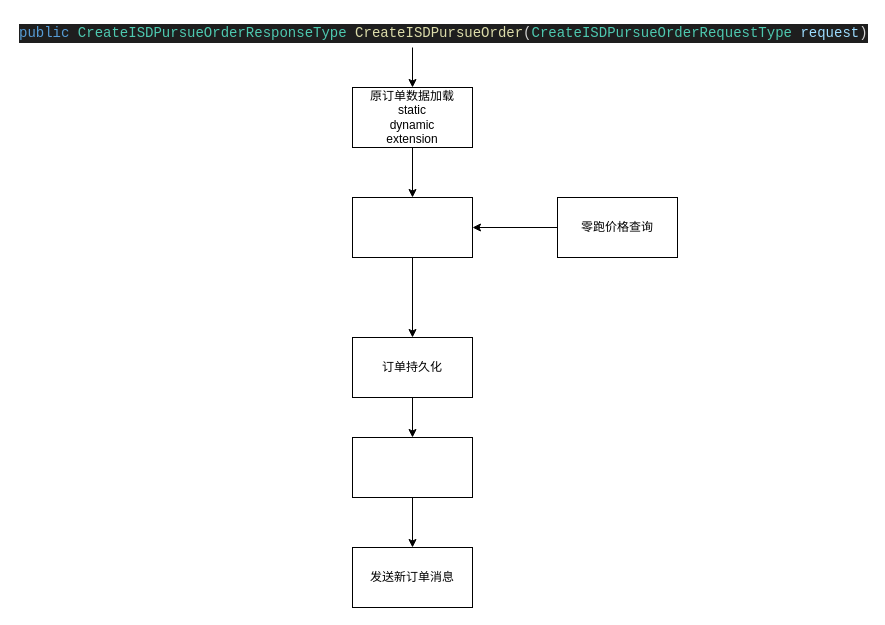
Some shapes in this 885 by 625 pixel diagram are drawn without their labels. Each missing label, with the centre of its shape:
"改派后状态追加" belongs at point 412,467.
"订单初始化" belongs at point 412,227.
